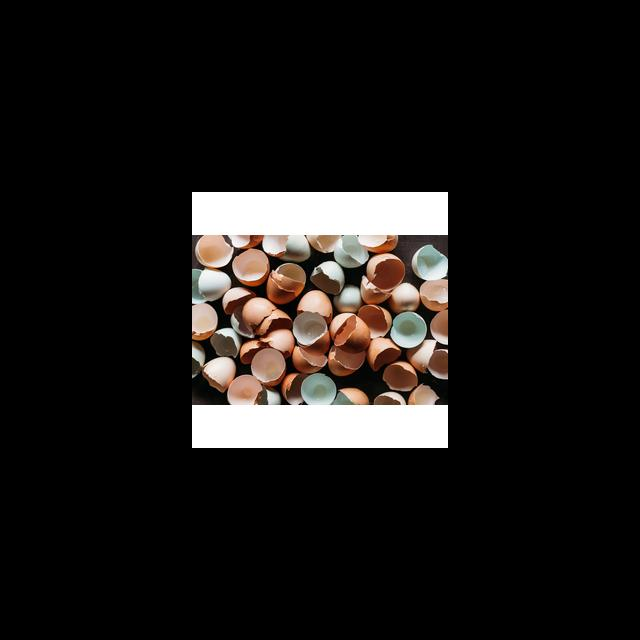food_waste: (258, 251, 308, 306), (246, 296, 293, 339), (228, 237, 267, 287), (262, 227, 308, 269), (297, 368, 344, 409), (192, 234, 244, 269), (330, 312, 377, 349), (415, 338, 448, 389), (232, 372, 274, 412), (390, 310, 437, 344), (192, 302, 231, 342), (404, 376, 443, 415), (192, 268, 235, 303), (202, 356, 240, 395), (370, 253, 404, 294), (312, 262, 351, 295), (416, 241, 448, 281), (279, 366, 309, 407), (337, 374, 372, 409), (388, 357, 422, 391), (420, 275, 448, 310), (192, 337, 213, 382), (371, 383, 408, 406), (215, 327, 244, 356), (369, 336, 401, 362), (430, 304, 448, 350)
